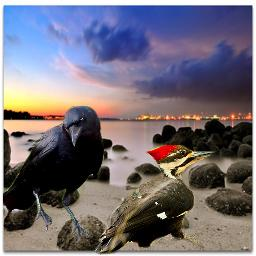Crow: (3, 106, 104, 245)
Woodpecker: (95, 145, 220, 255)
